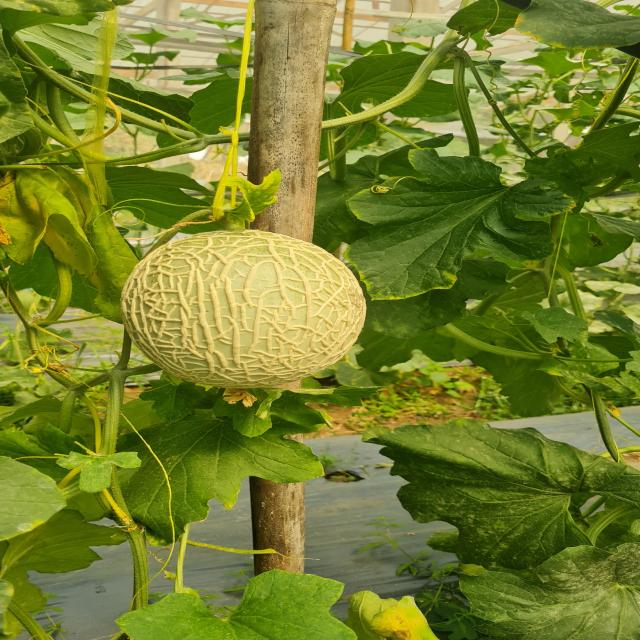melon: (122, 230, 367, 389)
